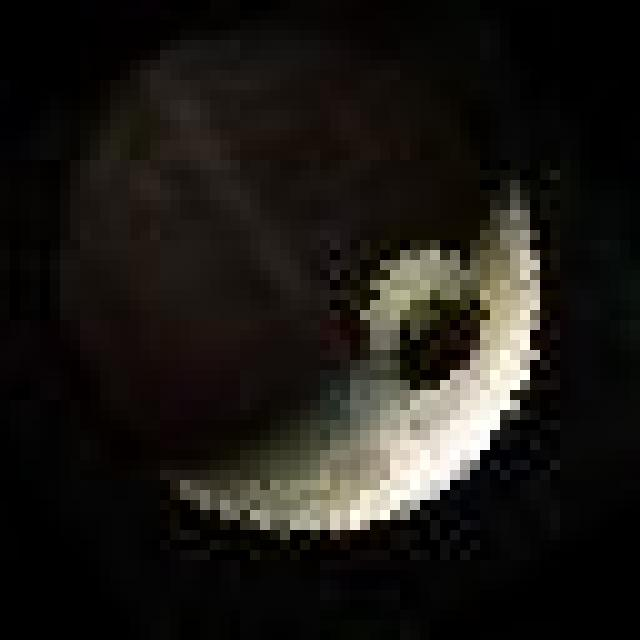Death Star: (64, 26, 544, 521)
